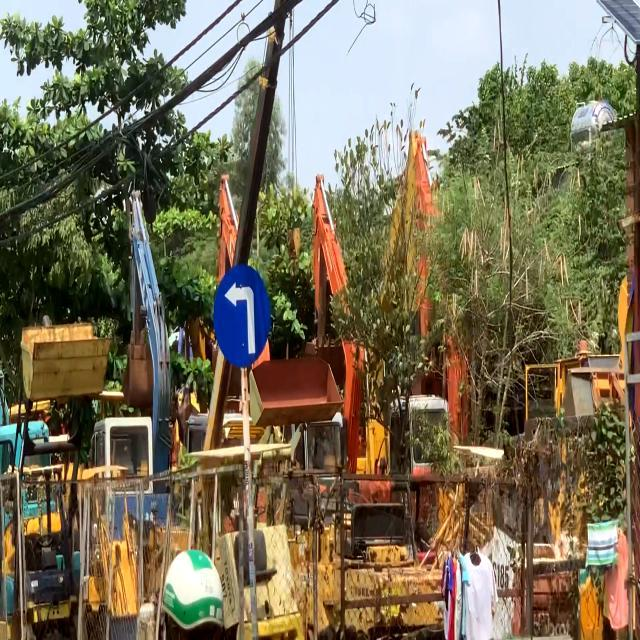Cac xe chi duoc re trai: (212, 262, 272, 370)
